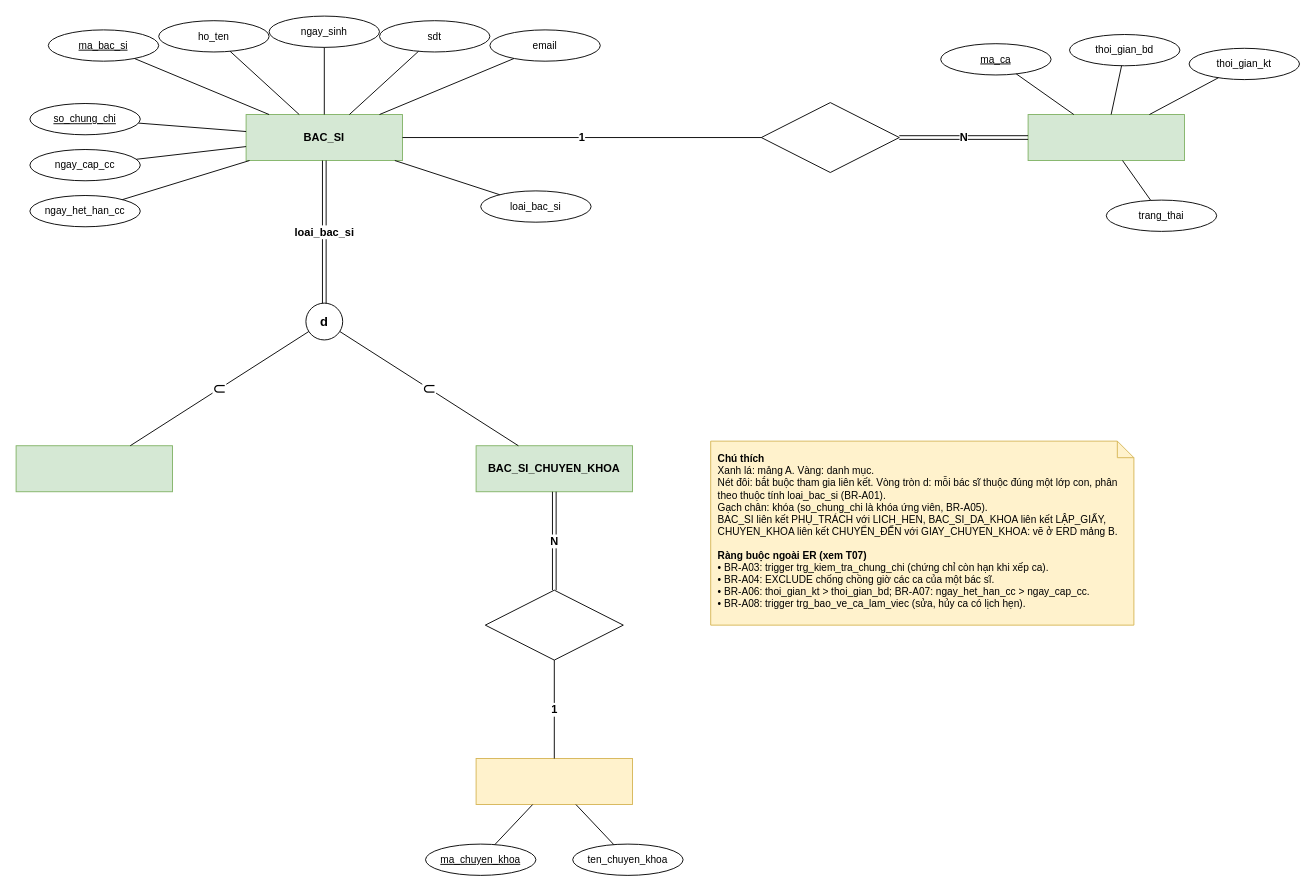
Some shapes in this 1316 by 891 pixel diagram are drawn without their labels. The centre of each missing label's shape, as x and y in pixels:
BAC_SI_DA_KHOA: the point at 93,468
CA_LAM_VIEC: the point at 1105,137
CHUYEN_KHOA: the point at 553,781
THUỘC: the point at 553,624
XẾP_CA: the point at 829,137
